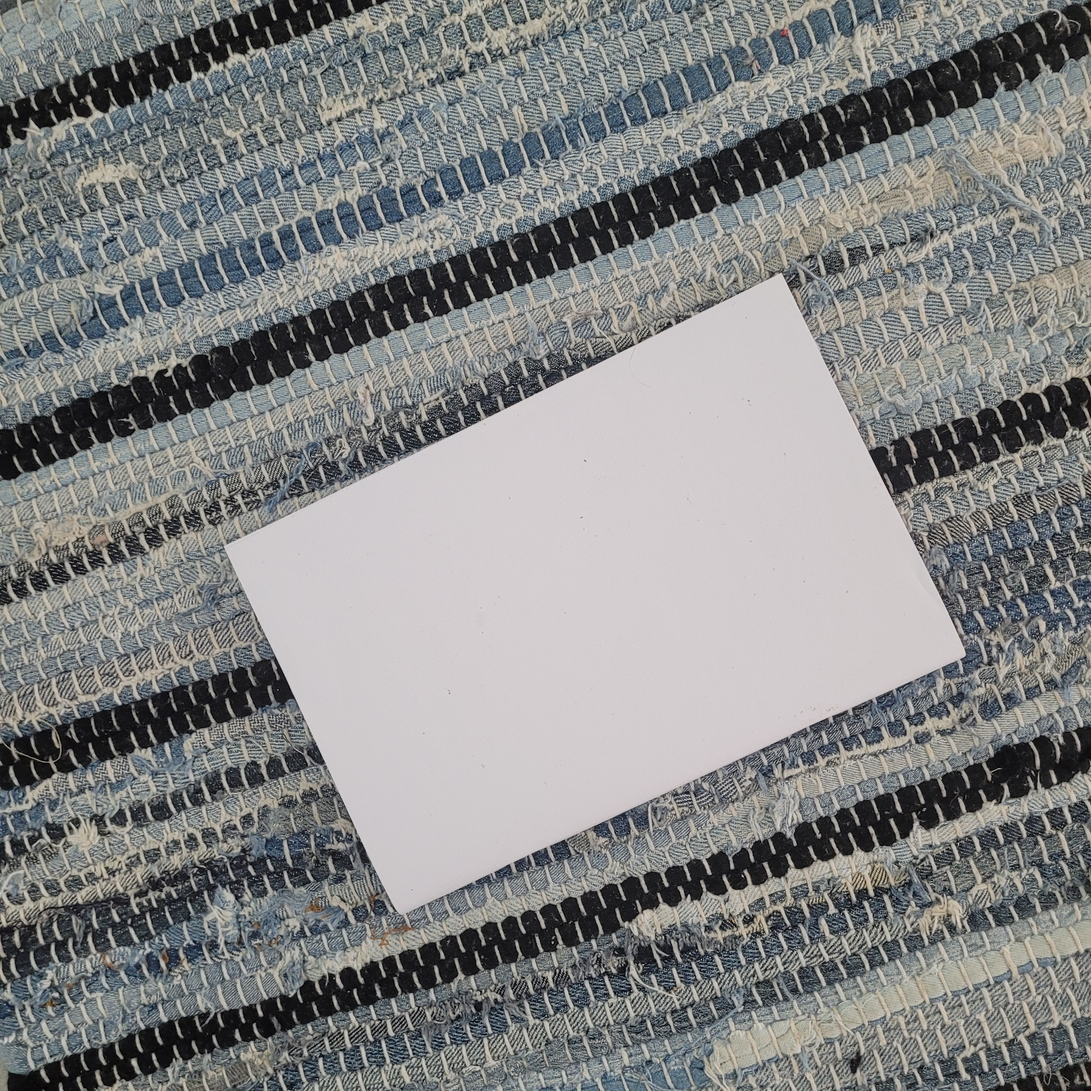paper: (218, 265, 970, 925)
